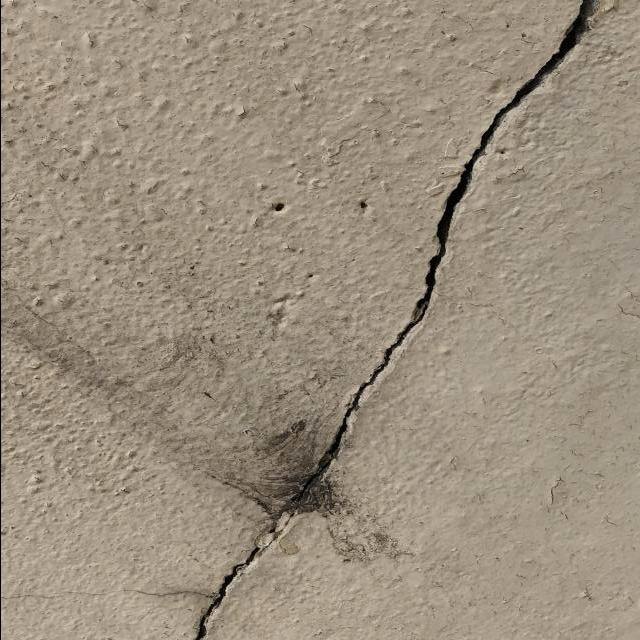SurfaceCrack: (149, 1, 618, 640)
